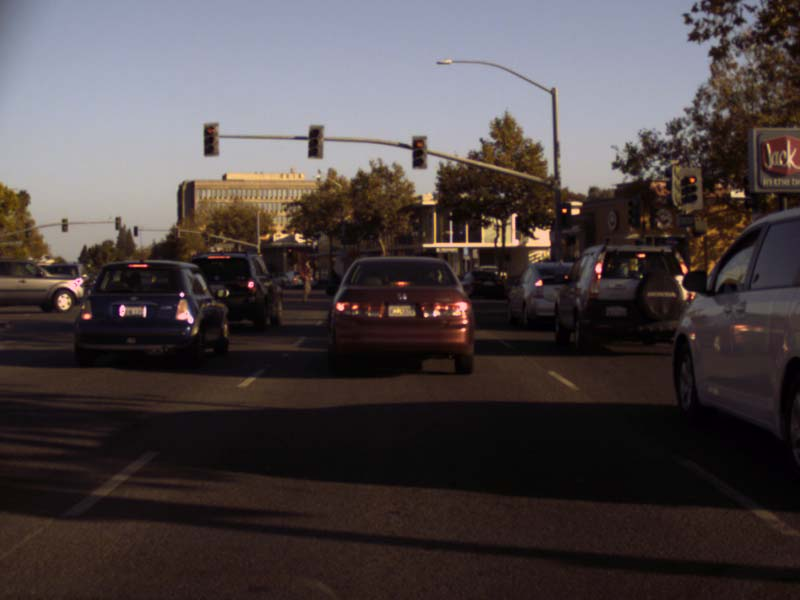Red: (681, 167, 702, 209), (203, 123, 219, 155), (411, 135, 426, 168), (556, 202, 570, 228)
